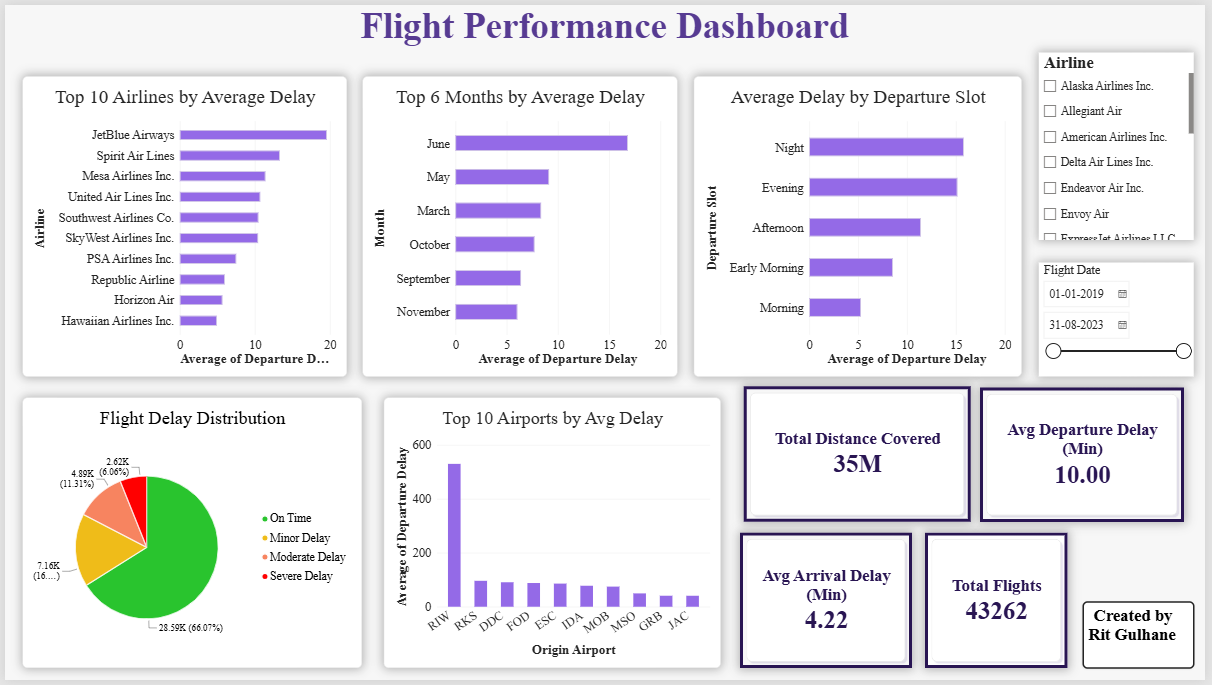

This screenshot's page, from the dashboard's own definition file:
{"tool":"powerbi","page":{"name":"DASHBOARD","canvas":[1920,1080],"ordinal":0},"visuals":[{"type":"textbox","box":[0,0,1919.2,76.9],"z":0},{"type":"clusteredBarChart","title":"Top 10 Airlines by Average Delay","fields":{"Category":["Airline_Flight_Cleaned.Airline"],"Y":["Avg(Airline_Flight_Cleaned.Departure Delay)"]},"box":[28.8,113.5,519.2,480.8],"z":1000},{"type":"clusteredBarChart","title":"Top 6 Months by Average Delay","fields":{"Category":["Airline_Flight_Cleaned.Month"],"Y":["Avg(Airline_Flight_Cleaned.Departure Delay)"]},"box":[571.2,113.5,503.8,480.8],"z":2000},{"type":"clusteredBarChart","title":"Average Delay by Departure Slot","fields":{"Category":["Airline_Flight_Cleaned.Departure Slot"],"Y":["Avg(Airline_Flight_Cleaned.Departure Delay)"]},"box":[1101.9,113.5,525,480.8],"z":3000},{"type":"pieChart","title":"Flight Delay Distribution","fields":{"Category":["Airline_Flight_Cleaned.Delay Status"],"Y":["CountNonNull(Airline_Flight_Cleaned.Flight Number)"]},"box":[29,628.1,543,432.6],"z":4000},{"type":"columnChart","title":"Top 10 Airports by Avg Delay","fields":{"Category":["Airline_Flight_Cleaned.Origin Airport"],"Y":["Avg(Airline_Flight_Cleaned.Departure Delay)"]},"box":[606.3,628.1,539.4,432.6],"z":5000},{"type":"cardVisual","fields":{"Data":["CountNonNull(Airline_Flight_Cleaned.Flight Number)"]},"box":[1471.2,844.2,228.8,217.3],"z":6000},{"type":"cardVisual","fields":{"Data":["Avg(Airline_Flight_Cleaned.Departure Delay)"]},"box":[1559.6,611.5,326.9,215.4],"z":7000},{"type":"cardVisual","fields":{"Data":["Avg(Airline_Flight_Cleaned.Arrival Delay)"]},"box":[1176.9,844.2,275,217.3],"z":8000},{"type":"cardVisual","fields":{"Data":["Sum(Airline_Flight_Cleaned.Distance)"]},"box":[1182.7,609.6,363.5,217.3],"z":9000},{"type":"slicer","fields":{"Values":["Airline_Flight_Cleaned.Airline"]},"box":[1653.8,76.9,248.1,300],"z":9001},{"type":"slicer","fields":{"Values":["Airline_Flight_Cleaned.Flight Date"]},"box":[1653.8,411.5,248.1,182.7],"z":9002},{"type":"textbox","box":[1723.1,953.8,178.8,107.7],"z":9003}]}

Visuals, with their boxes in screenshot pixels (x1, y1, x2, y2), scaled from the page's 1920x1080 canvas onto the 1212x685 screenshot:
textbox: <bbox>0, 0, 1211, 49</bbox>
"Top 10 Airlines by Average Delay" clusteredBarChart: <bbox>18, 72, 346, 377</bbox>
"Top 6 Months by Average Delay" clusteredBarChart: <bbox>361, 72, 679, 377</bbox>
"Average Delay by Departure Slot" clusteredBarChart: <bbox>696, 72, 1027, 377</bbox>
"Flight Delay Distribution" pieChart: <bbox>18, 398, 361, 673</bbox>
"Top 10 Airports by Avg Delay" columnChart: <bbox>383, 398, 723, 673</bbox>
cardVisual - CountNonNull(Airline_Flight_Cleaned.Flight Number): <bbox>929, 535, 1073, 673</bbox>
cardVisual - Avg(Airline_Flight_Cleaned.Departure Delay): <bbox>984, 388, 1191, 524</bbox>
cardVisual - Avg(Airline_Flight_Cleaned.Arrival Delay): <bbox>743, 535, 917, 673</bbox>
cardVisual - Sum(Airline_Flight_Cleaned.Distance): <bbox>747, 387, 976, 524</bbox>
slicer - Airline_Flight_Cleaned.Airline: <bbox>1044, 49, 1201, 239</bbox>
slicer - Airline_Flight_Cleaned.Flight Date: <bbox>1044, 261, 1201, 377</bbox>
textbox: <bbox>1088, 605, 1201, 673</bbox>
